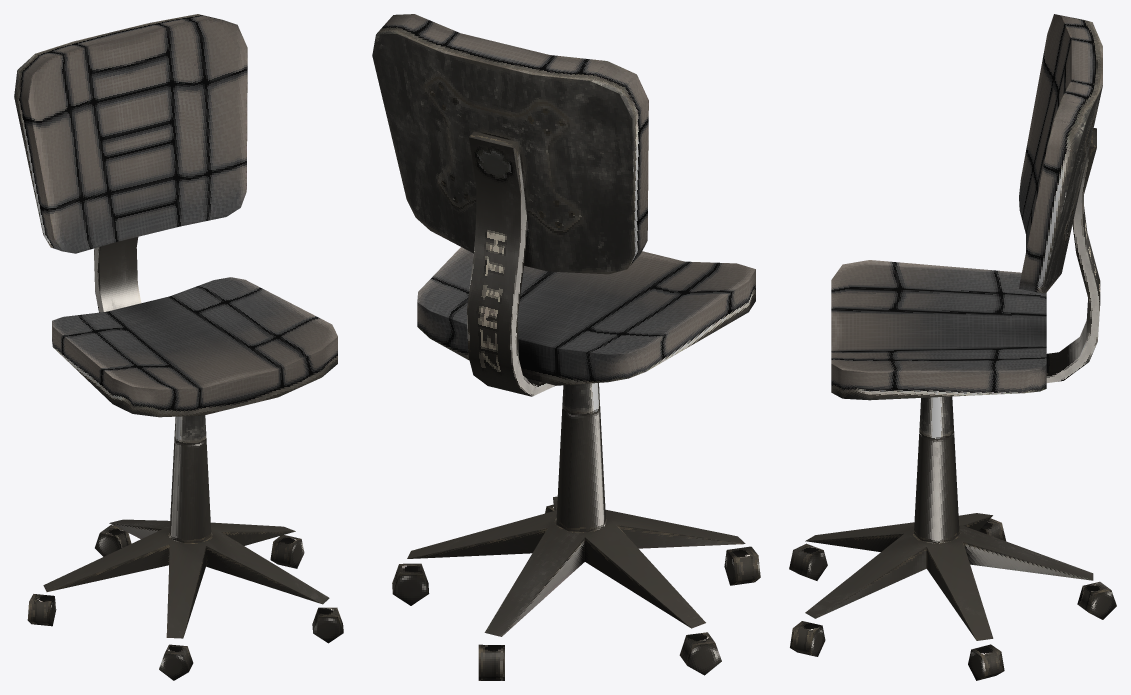
Rendered from chair2.glb.
3 views of the same model, side by side, from view 1: azimuth 30°, elevation 25°; view 2: azimuth 150°, elevation 25°; view 3: azimuth 270°, elevation 25° (orthographic). The views are drawn at different scales.
Parts seen in each view (by area): view 1: Chair Low Poly; view 2: Chair Low Poly; view 3: Chair Low Poly.
Part boxes in pixels (<box>): Chair Low Poly: <box>14,14,343,680</box>; Chair Low Poly: <box>372,14,760,680</box>; Chair Low Poly: <box>789,14,1116,680</box>.
Size of the model in its own units: 0.5995 by 1.1 by 0.5826.
1 material, 1 textured.
